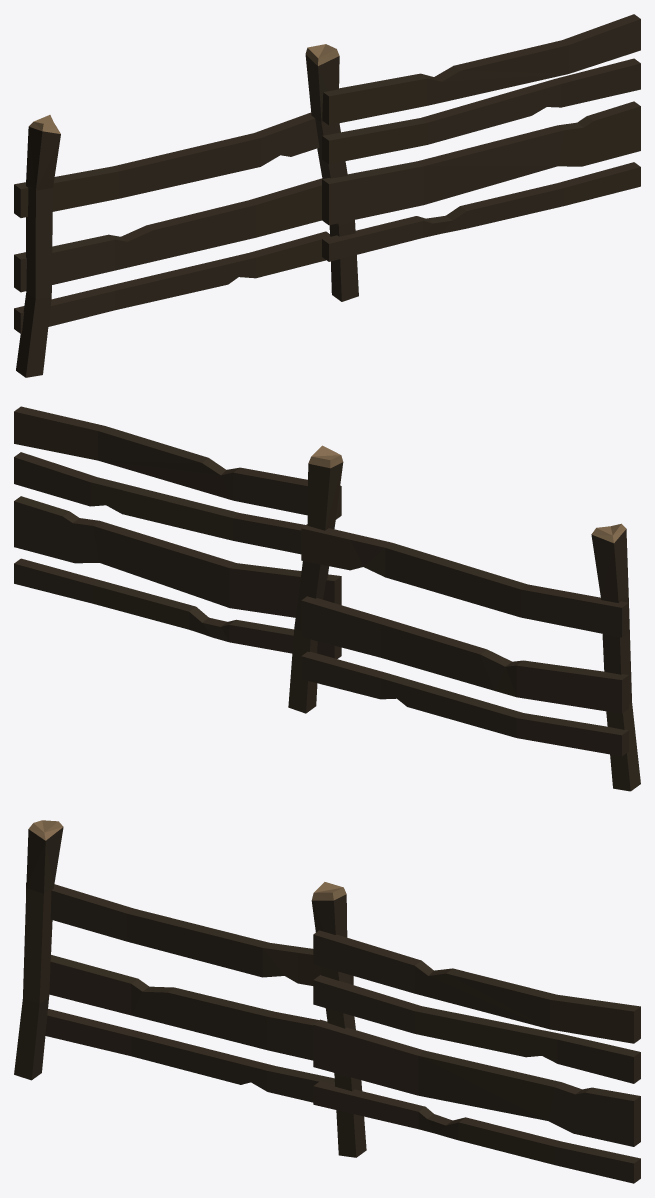
The model's file is SM_Bld_Fence_01.fbx.
3 views of the same model, one above another, from view 1: azimuth 30°, elevation 25°; view 2: azimuth 150°, elevation 25°; view 3: azimuth 330°, elevation 25° (orthographic). The views are drawn at different scales.
Visible parts, largest first — view 1: SM_Bld_Fence_01; view 2: SM_Bld_Fence_01; view 3: SM_Bld_Fence_01.
Boxes of the visible parts, x1,y1,x2,y2 form: SM_Bld_Fence_01: (14, 14, 640, 377); SM_Bld_Fence_01: (14, 406, 640, 791); SM_Bld_Fence_01: (14, 820, 640, 1183).
Size of the model in its own units: 0.00312 by 0.00125 by 0.000265.
1 material, 1 textured.
